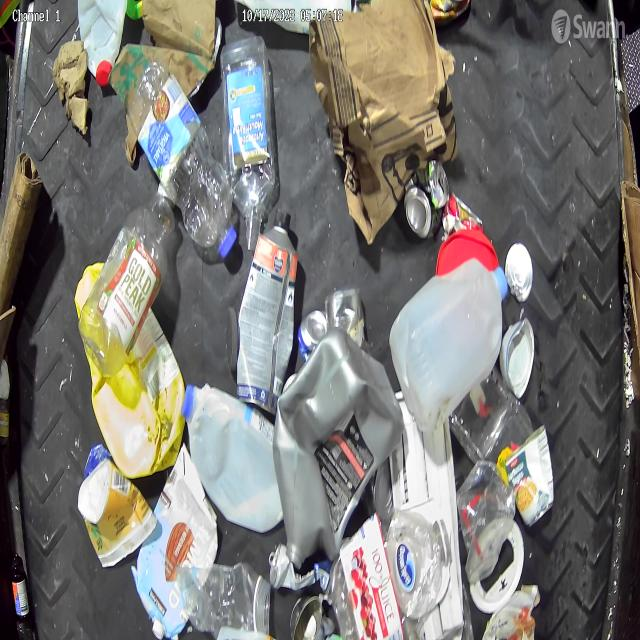can: (504, 423, 554, 528), (403, 158, 450, 238), (326, 286, 366, 346), (442, 189, 484, 237), (506, 239, 534, 304), (298, 308, 330, 359), (289, 594, 323, 640)
milk_jug: (390, 257, 505, 427), (182, 380, 280, 534), (78, 0, 129, 84)
non_white_jug: (273, 327, 404, 570), (75, 260, 186, 480), (131, 441, 217, 640)
plastic_bottle: (128, 60, 238, 258), (79, 177, 178, 377), (223, 33, 279, 244)
